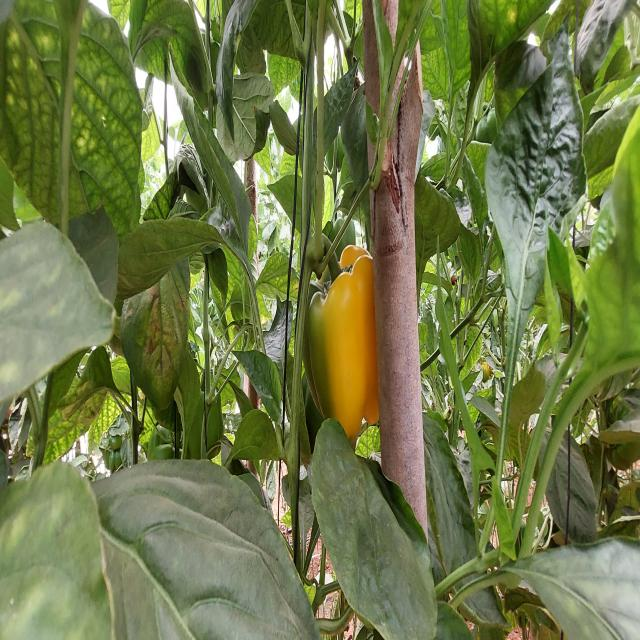Yellow-Ready-to-Harvest: (326, 240, 384, 449)
